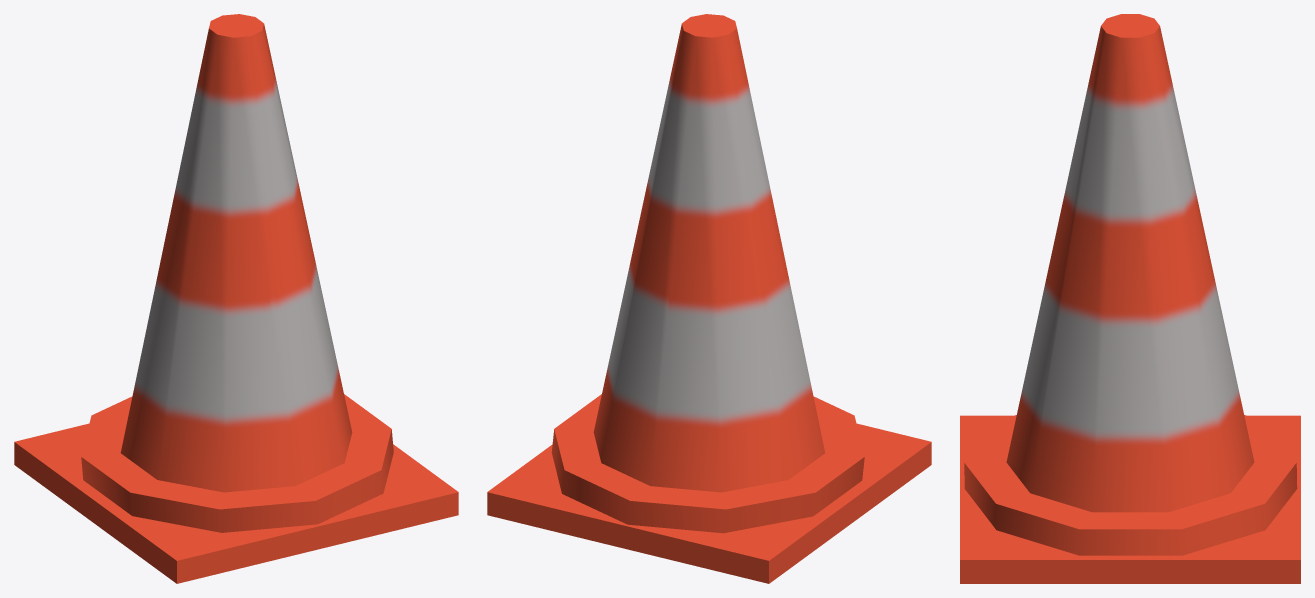
File: Obstacle_plot_1.fbx
The picture shows the model from 3 angles, left to right: view 1: azimuth 30°, elevation 25°; view 2: azimuth 150°, elevation 25°; view 3: azimuth 270°, elevation 25°; orthographic projection. The views are drawn at different scales.
Parts seen in each view (by area): view 1: Obstacle_plot_1; view 2: Obstacle_plot_1; view 3: Obstacle_plot_1.
Part boxes in pixels (box(x1,y1,x2,y2)): Obstacle_plot_1: box(14, 14, 458, 583); Obstacle_plot_1: box(487, 14, 931, 583); Obstacle_plot_1: box(960, 14, 1300, 583).
Bounding box in the file's own units: 69.89 × 110 × 69.89.
